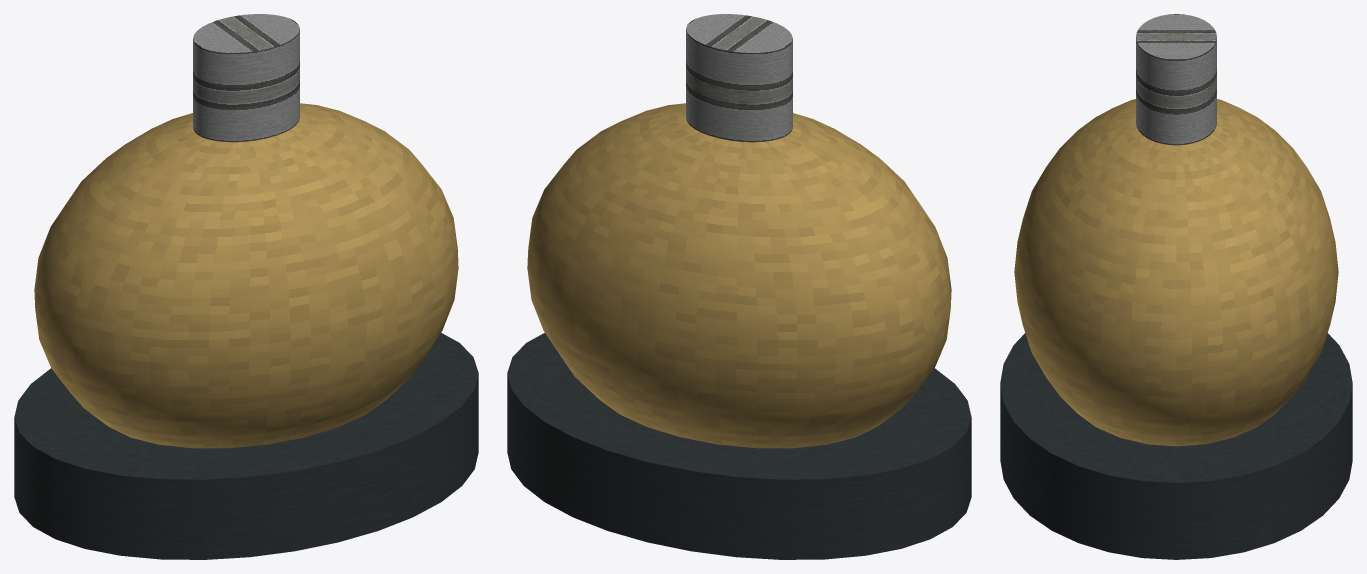
The model's file is bell.glb.
3 renders of one model, left to right at view 1: azimuth 30°, elevation 25°; view 2: azimuth 150°, elevation 25°; view 3: azimuth 270°, elevation 25°, orthographic. The views are drawn at different scales.
Parts seen in each view (by area): view 1: bell, foot, button; view 2: bell, foot, button; view 3: bell, foot, button.
Part boxes in pixels (x1=…): bell: x1=34, y1=103, x2=458, y2=448; foot: x1=14, y1=333, x2=478, y2=559; button: x1=193, y1=14, x2=299, y2=142; bell: x1=527, y1=103, x2=951, y2=448; foot: x1=507, y1=333, x2=971, y2=559; button: x1=686, y1=14, x2=792, y2=142; bell: x1=1014, y1=99, x2=1338, y2=446; foot: x1=1000, y1=333, x2=1352, y2=559; button: x1=1136, y1=14, x2=1216, y2=145.
Bounding box in the file's own units: 0.087 × 0.0861 × 0.065.
3 materials, 3 textured.
